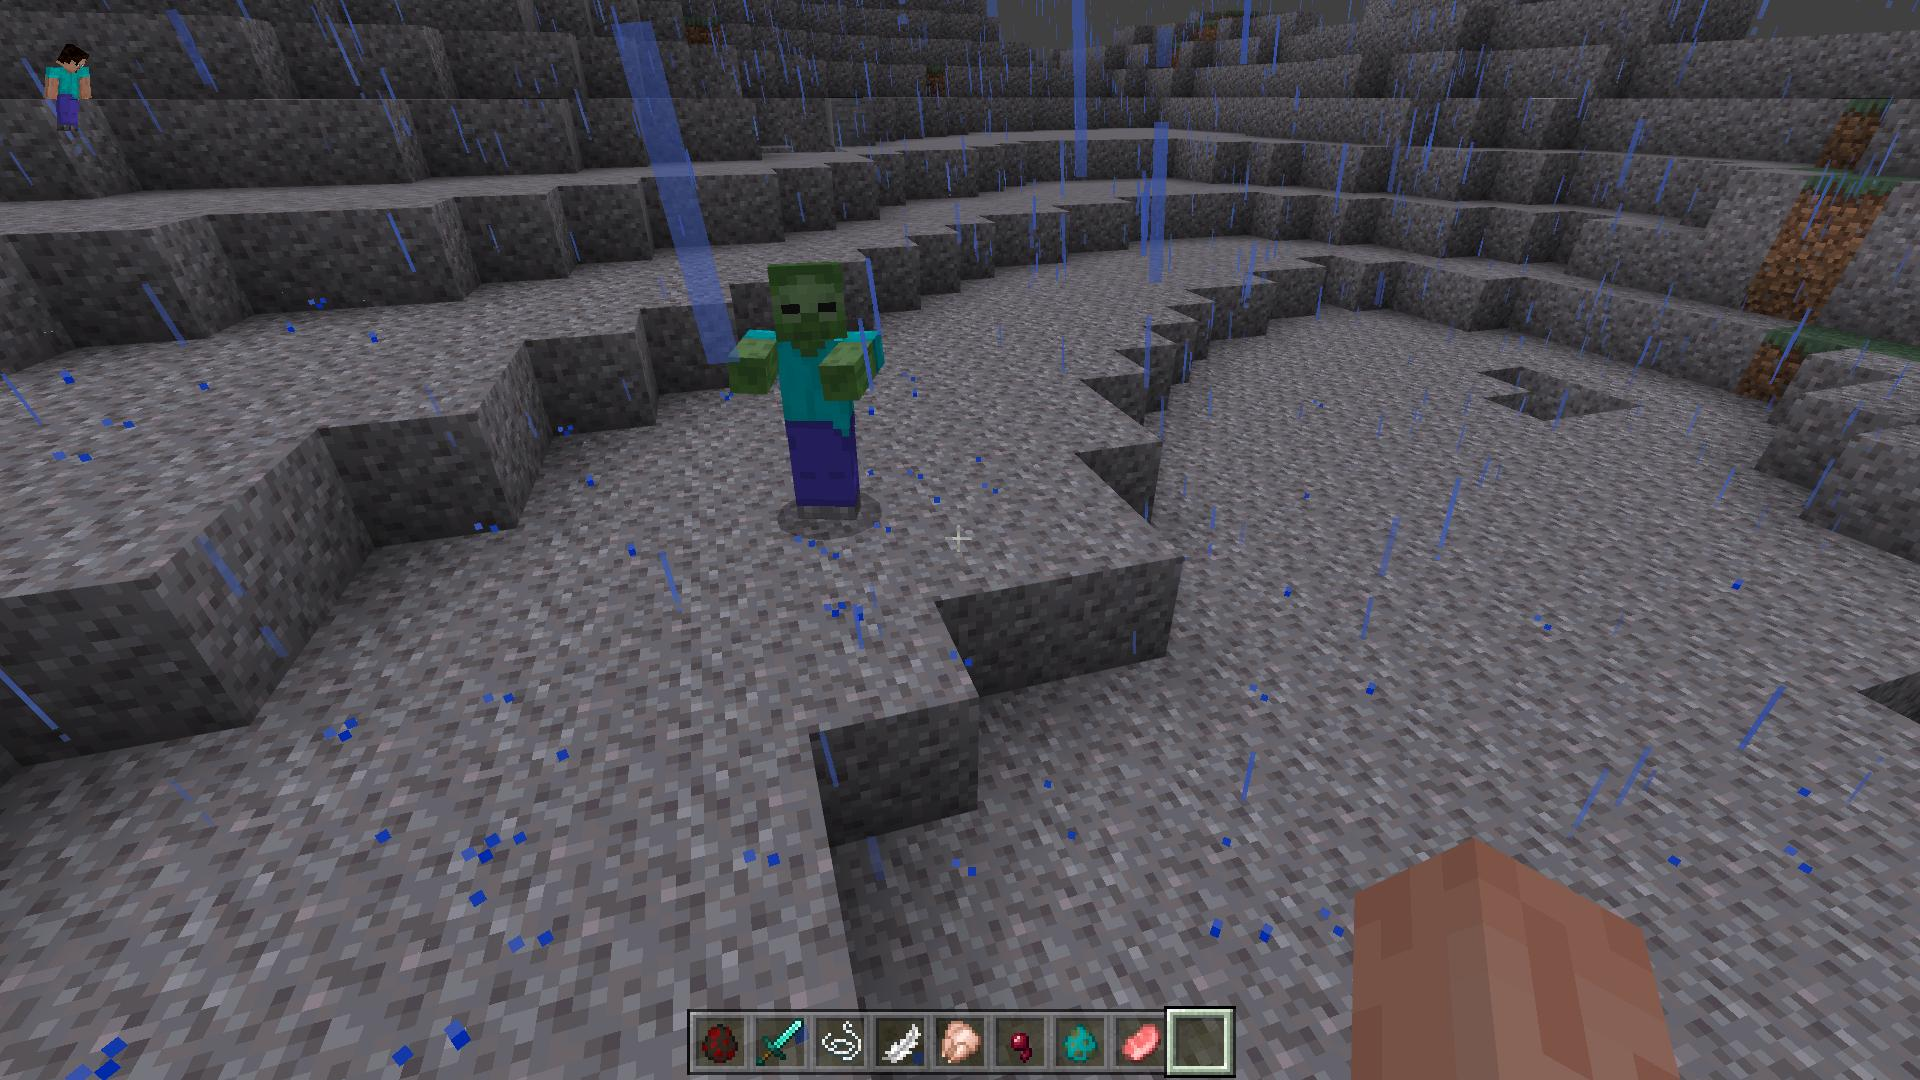zombie: (735, 261, 886, 522)
